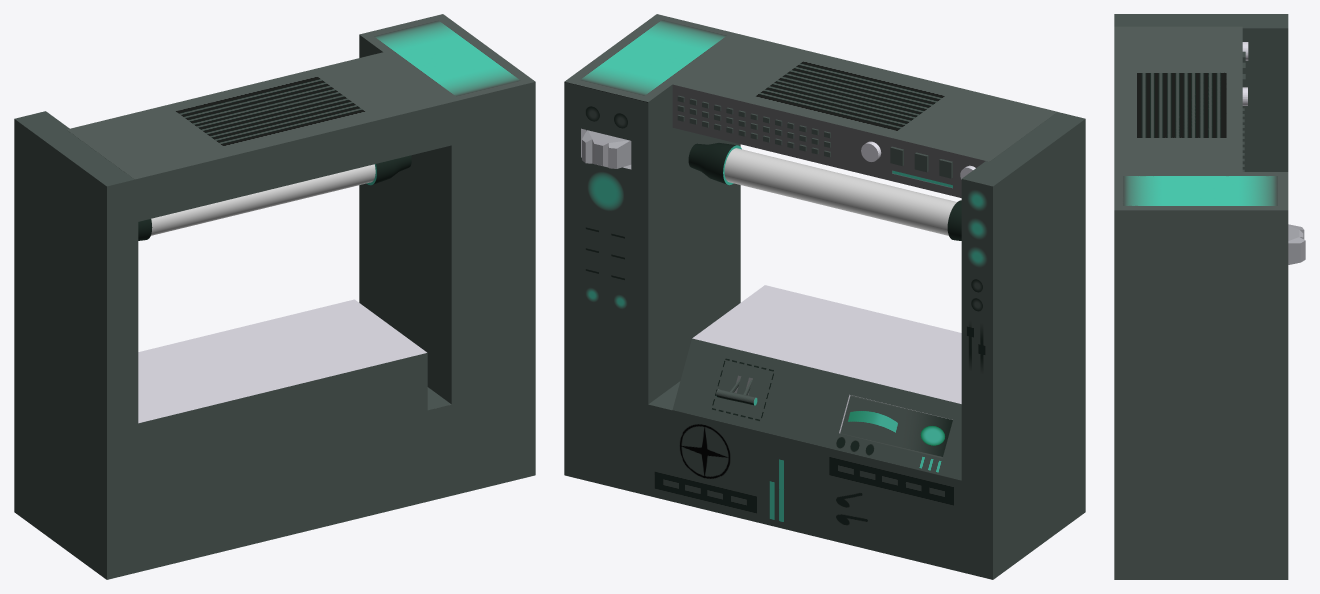
File: Tool1.fbx
The picture shows the model from 3 angles, left to right: view 1: azimuth 30°, elevation 25°; view 2: azimuth 150°, elevation 25°; view 3: azimuth 270°, elevation 25°; orthographic projection. The views are drawn at different scales.
Visible parts, largest first — view 1: Cylinder.010; view 2: Cylinder.010; view 3: Cylinder.010.
Part boxes in pixels (x1=…): Cylinder.010: x1=14, y1=14, x2=535, y2=579; Cylinder.010: x1=564, y1=14, x2=1085, y2=579; Cylinder.010: x1=1114, y1=14, x2=1305, y2=579.
Size of the model in its own units: 164 by 143 by 67.19.
